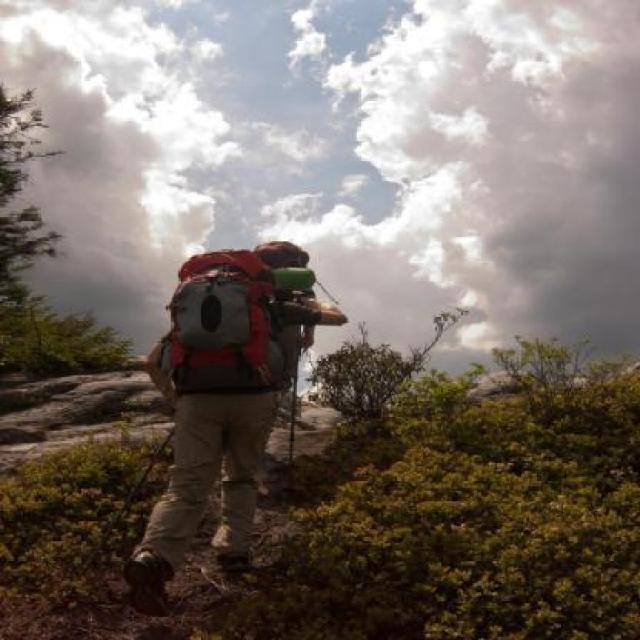backpack: (163, 246, 280, 397)
